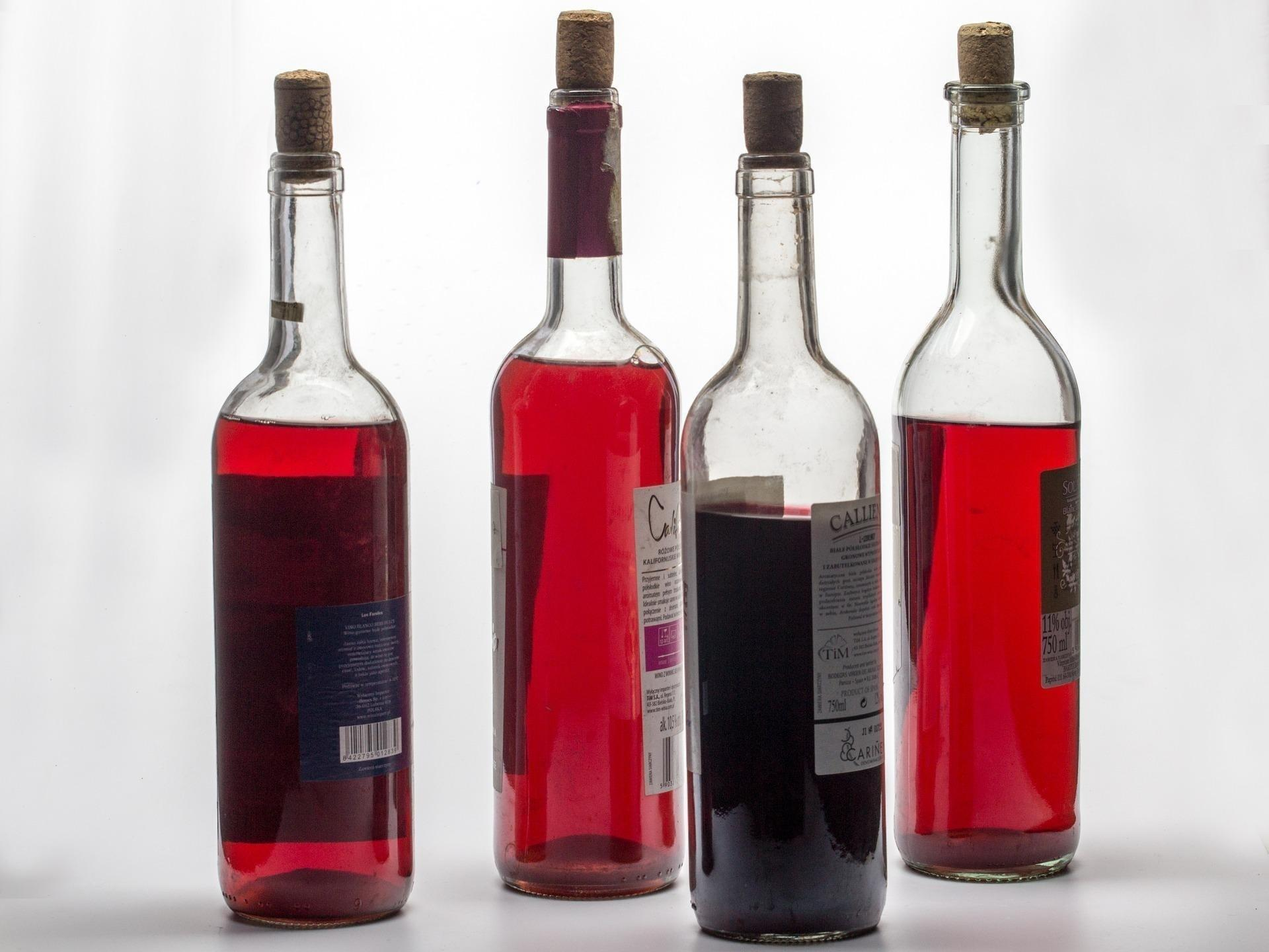bottle-glass: (678, 150, 884, 950), (487, 85, 684, 903), (208, 148, 413, 934), (890, 83, 1079, 887)
